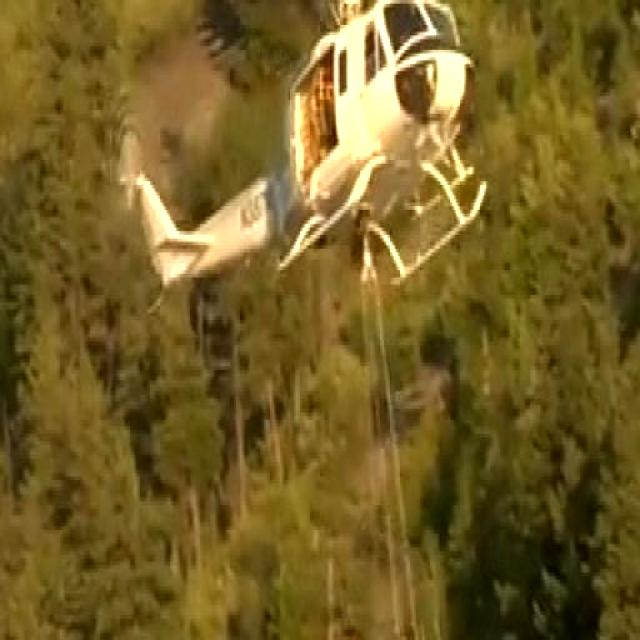drone: (115, 0, 500, 324)
